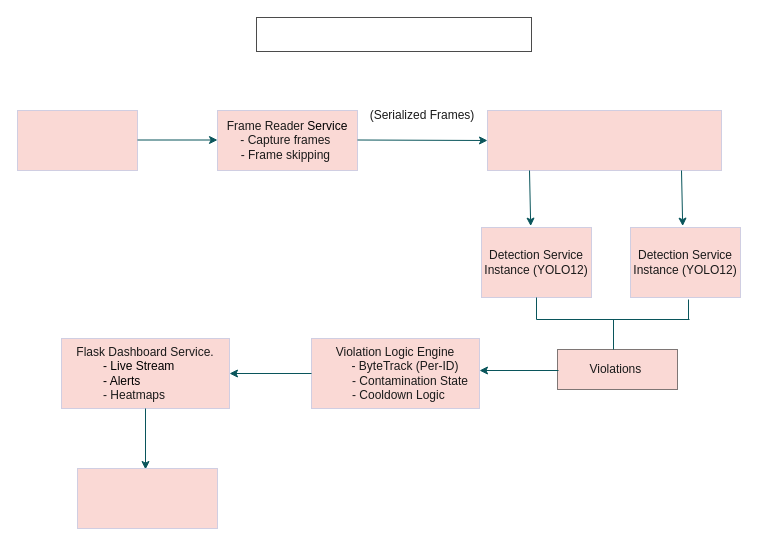
Image size: 758x546. Some labels were removed from this diagram. Each missing label, with the centre of its shape:
"Camera / Video" belongs at [77,140].
"RabbitMQ Message Broker - Async buffering - Backpressure" belongs at [604,140].
"SQLite Database - Violation Logs - Timestamps" belongs at [147,498].
